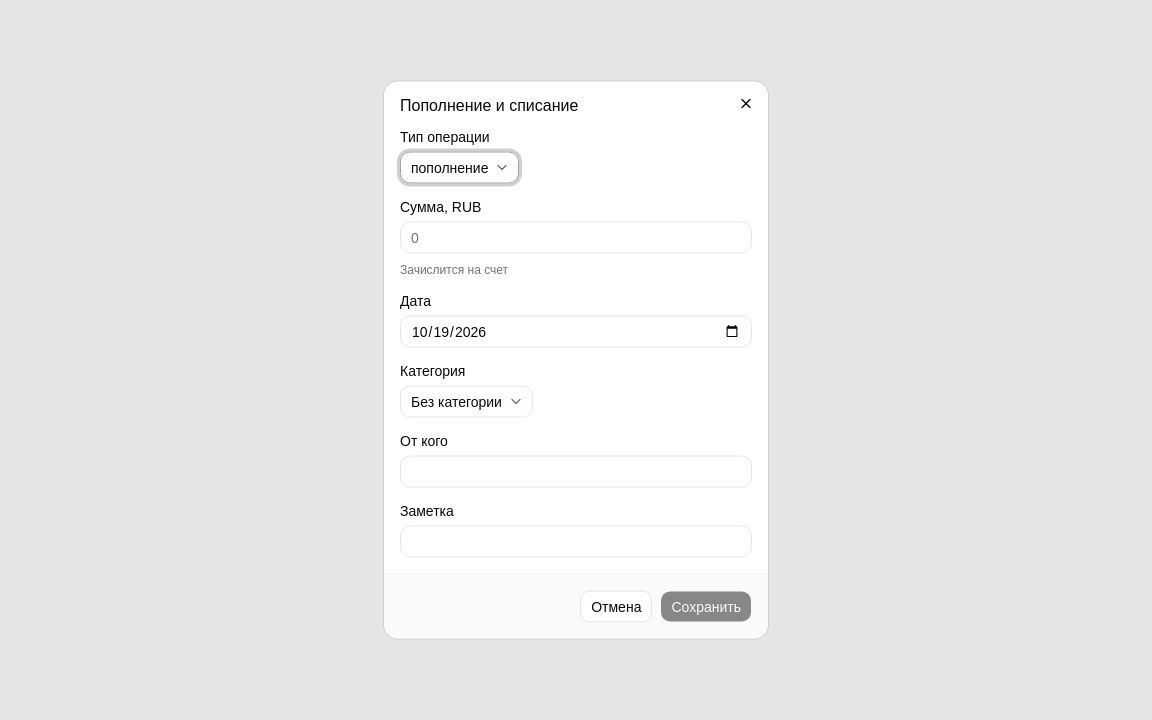
CashDialog: a sum too large to record › still asks for a positive number when the text is not one
The image size is (1152, 720).
Type "abc" into the field labelled "Сумма, RUB" at [576, 238], box [400,222,752,254]
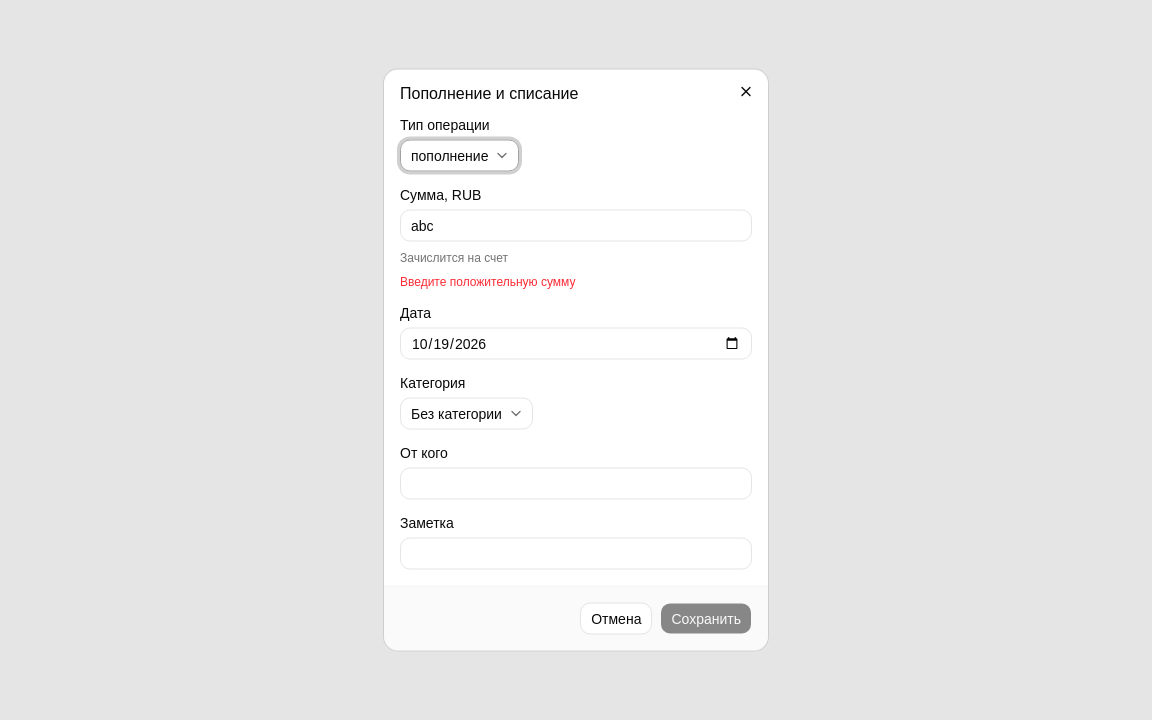
Expected: the button "Сохранить" is disabled, [660,602,752,634]
Expected: the text "Введите положительную сумму" is shown, [400,274,575,288]
